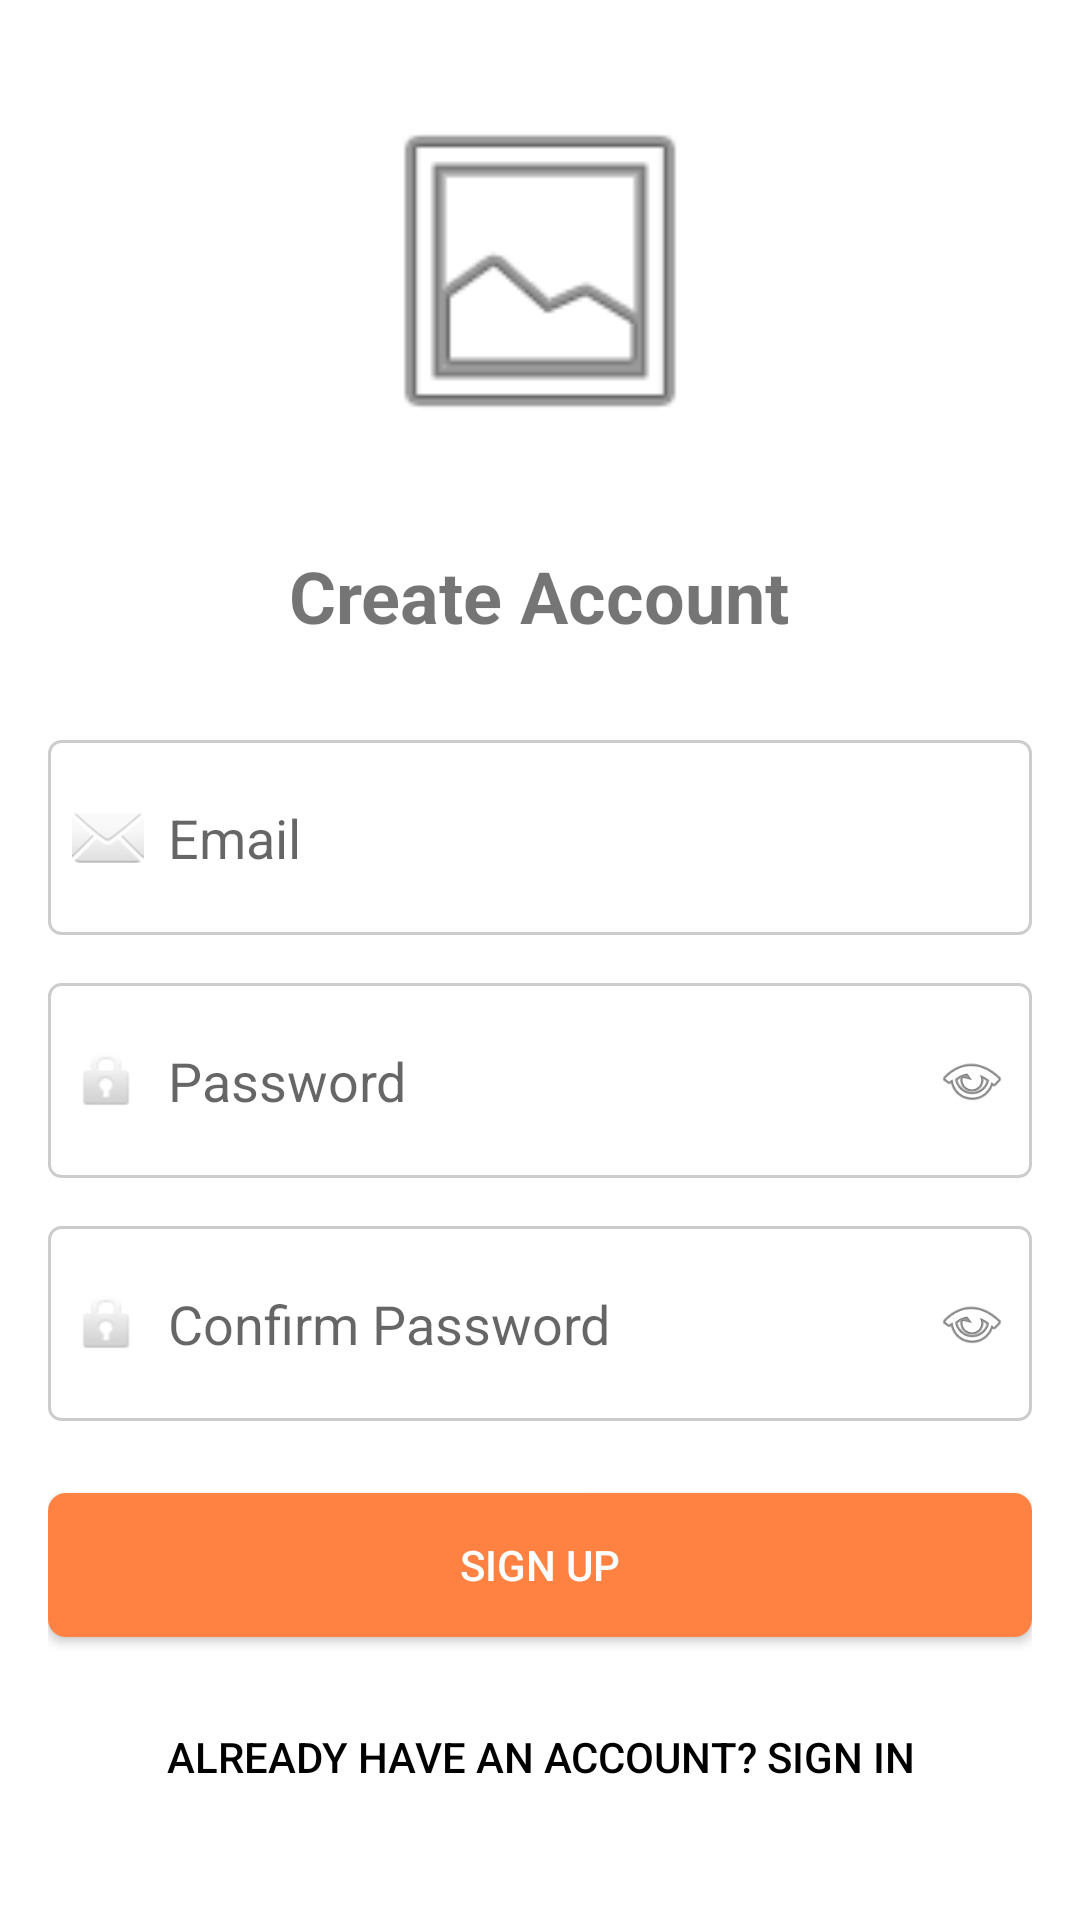

Screen size 1080px×1920px. Icon name, then its box in pixels as (x1, y1, x2, y2):
gallery: (404, 135, 676, 407)
view: (943, 1063, 1001, 1100), (943, 1306, 1001, 1343)
